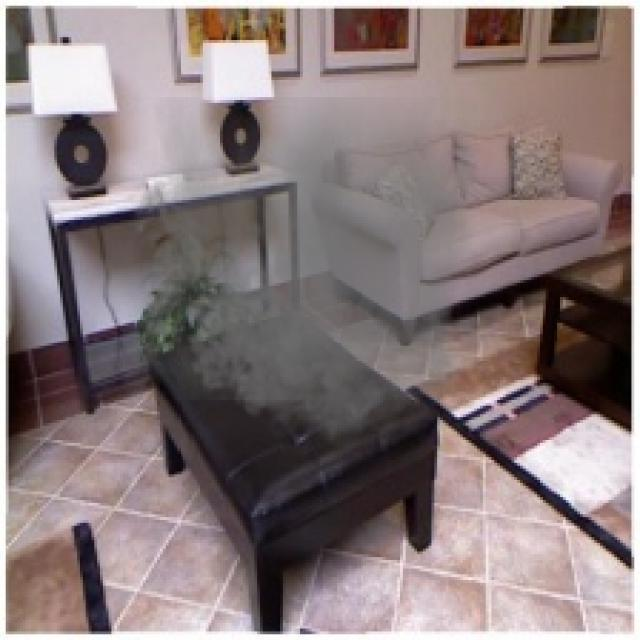Smoke: (122, 97, 478, 460)
